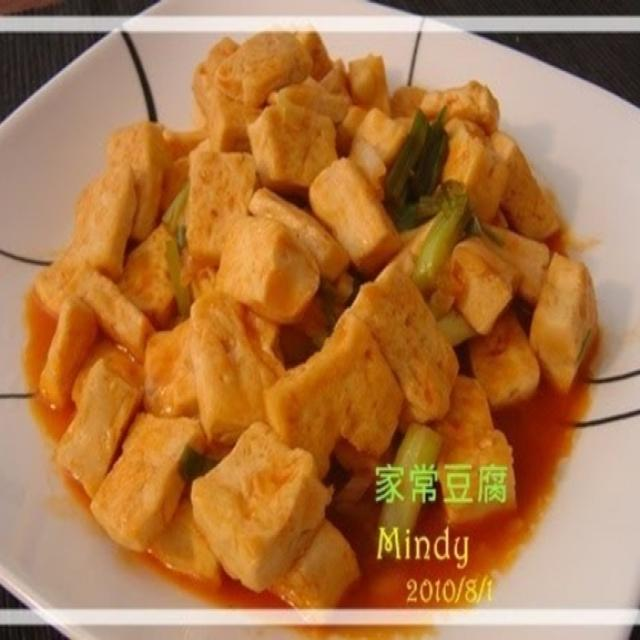豆腐料理: (26, 31, 596, 608)
